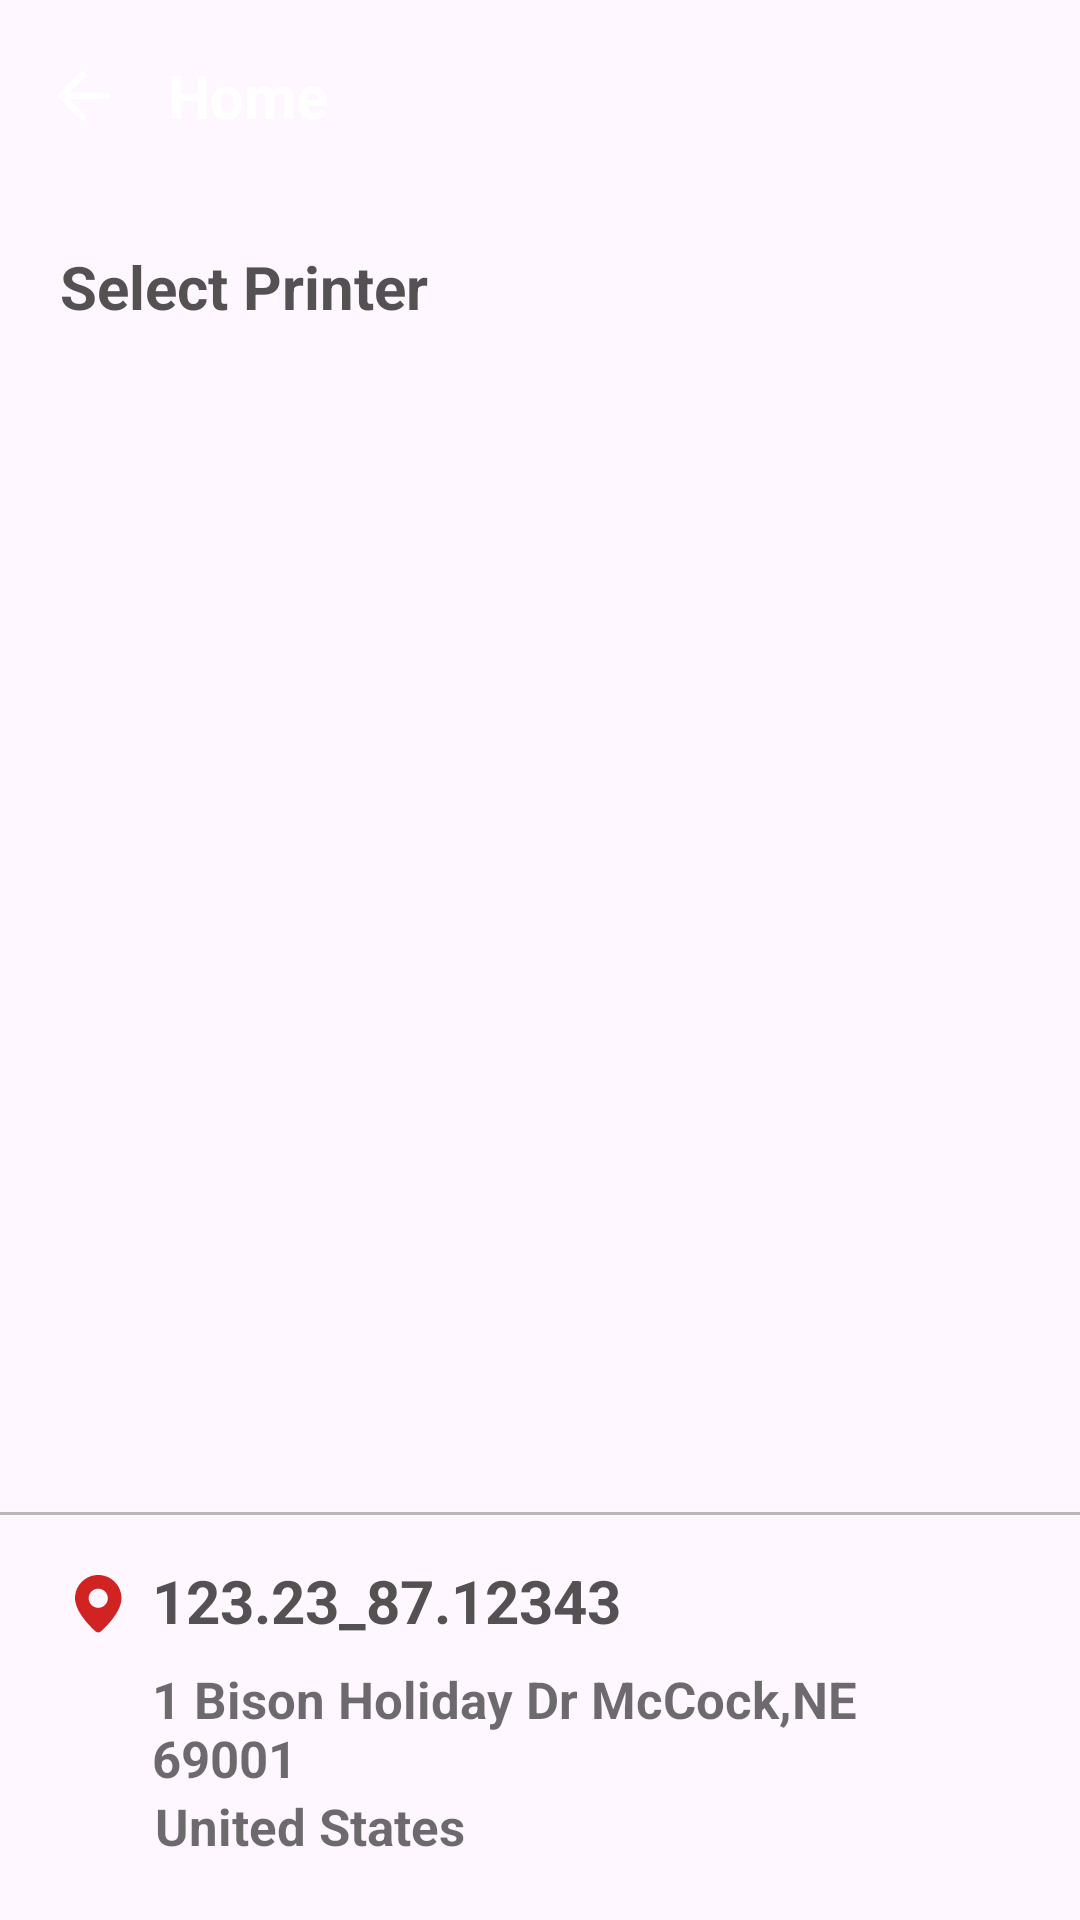

Icon click points for this 1080w x 1920h phone screenshot, format (x,y):
location: (98,1604)
